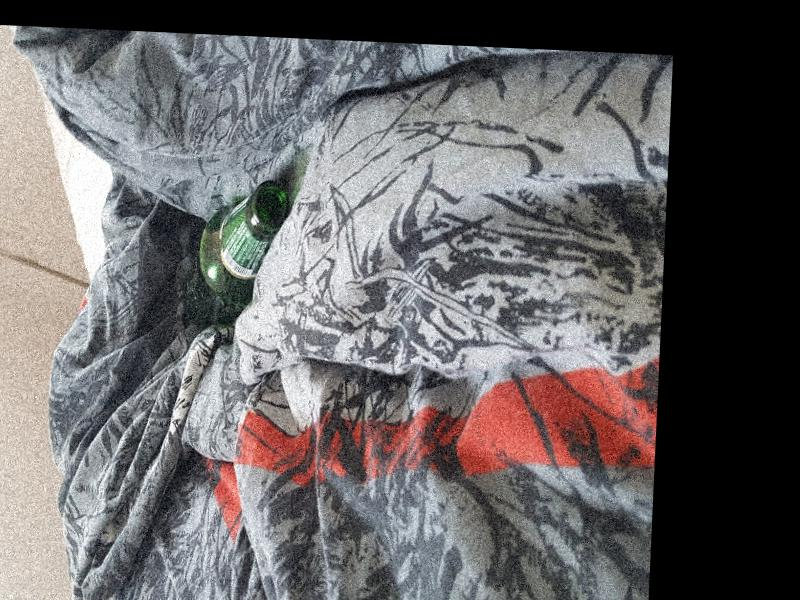Beer: (183, 176, 291, 335)
